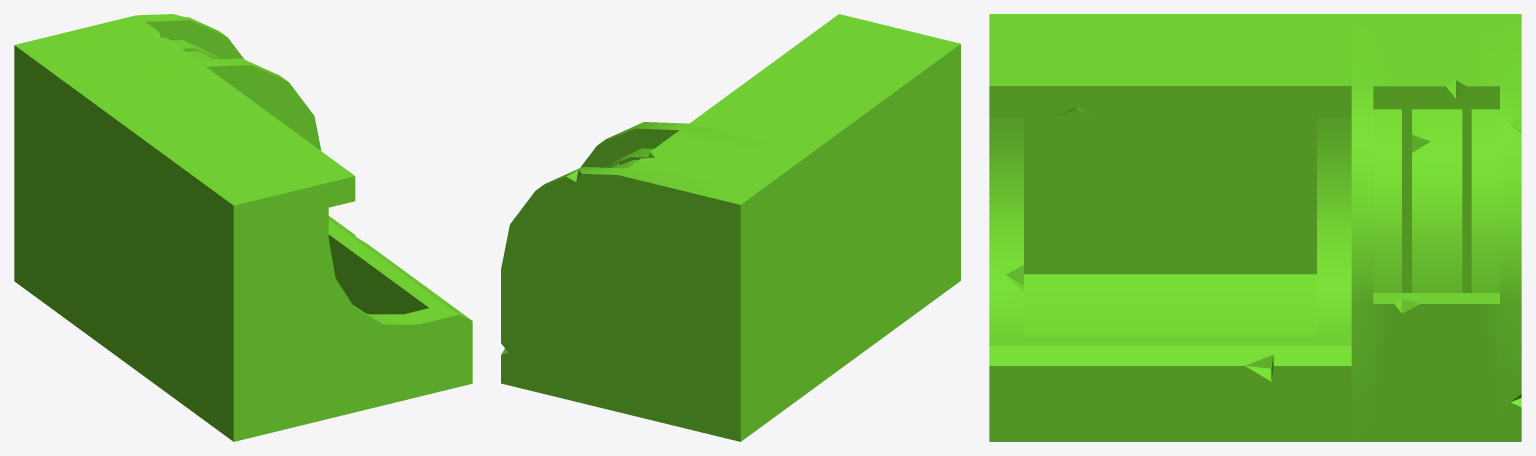
File: 菜刀架.fbx
3 renders of one model, left to right at view 1: azimuth 30°, elevation 25°; view 2: azimuth 150°, elevation 25°; view 3: azimuth 270°, elevation 25°, orthographic. The views are drawn at different scales.
Parts seen in each view (by area): view 1: 菜刀架 左, 菜刀架 右; view 2: 菜刀架 右, 菜刀架 左; view 3: 菜刀架 左, 菜刀架 右.
Part boxes in pixels (bbox=[...]): 菜刀架 左: bbox=[84, 67, 472, 441]; 菜刀架 右: bbox=[14, 14, 321, 331]; 菜刀架 右: bbox=[501, 122, 810, 441]; 菜刀架 左: bbox=[689, 14, 960, 390]; 菜刀架 左: bbox=[989, 14, 1351, 441]; 菜刀架 右: bbox=[1351, 14, 1521, 441].
Size of the model in its own units: 66.07 by 62.44 by 105.
